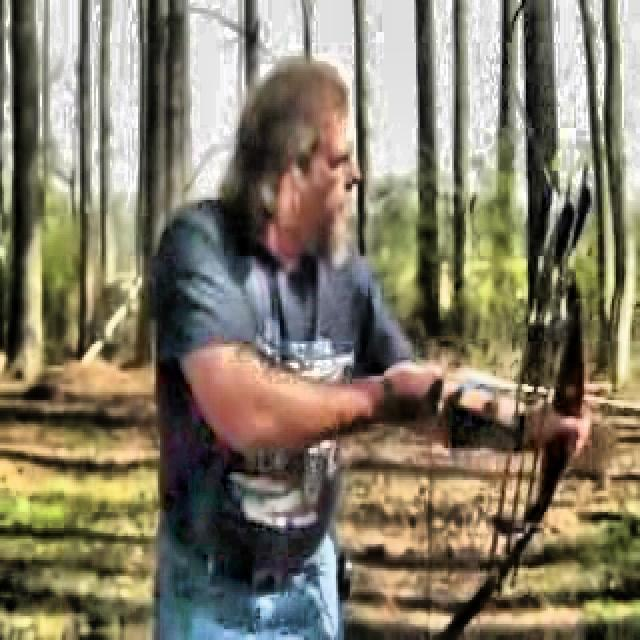I: (132, 40, 620, 640)
